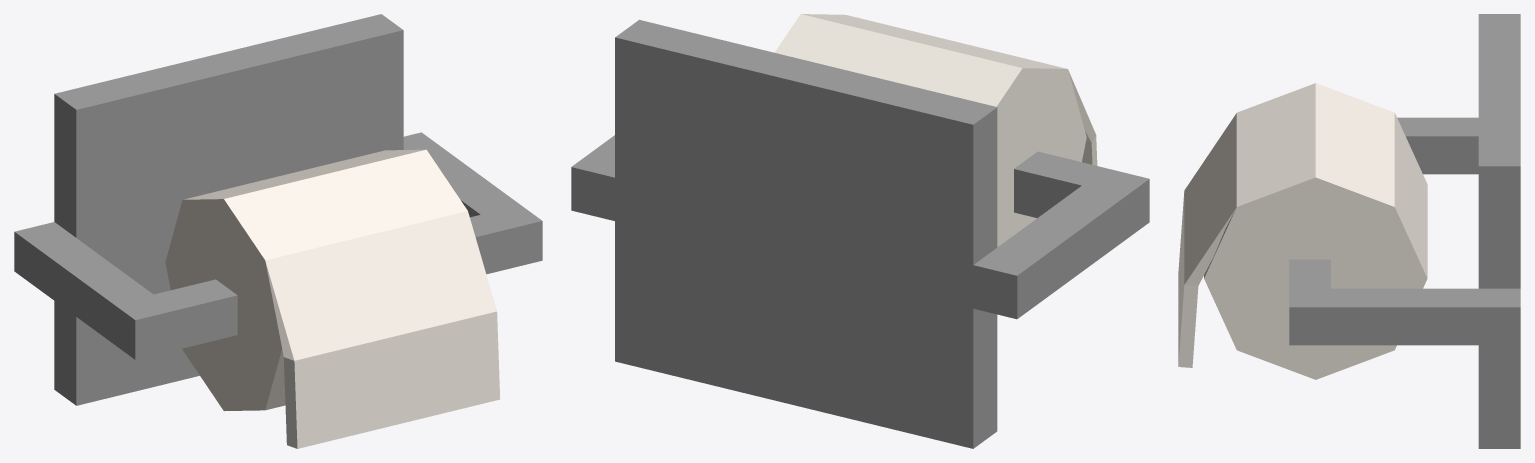
File: ToiletPaper.fbx
3 views of the same model, side by side, from view 1: azimuth 30°, elevation 25°; view 2: azimuth 150°, elevation 25°; view 3: azimuth 270°, elevation 25° (orthographic). The views are drawn at different scales.
Parts seen in each view (by area): view 1: ToiletPaper; view 2: ToiletPaper; view 3: ToiletPaper.
Part boxes in pixels (x1,y1,x2,y2): ToiletPaper: (14,14,542,448); ToiletPaper: (571,14,1149,448); ToiletPaper: (1178,14,1520,448).
Bounding box in the file's own units: 74.73 × 51.91 × 56.96.
